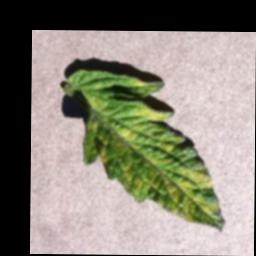Leaf_Mold: (62, 69, 225, 232)
